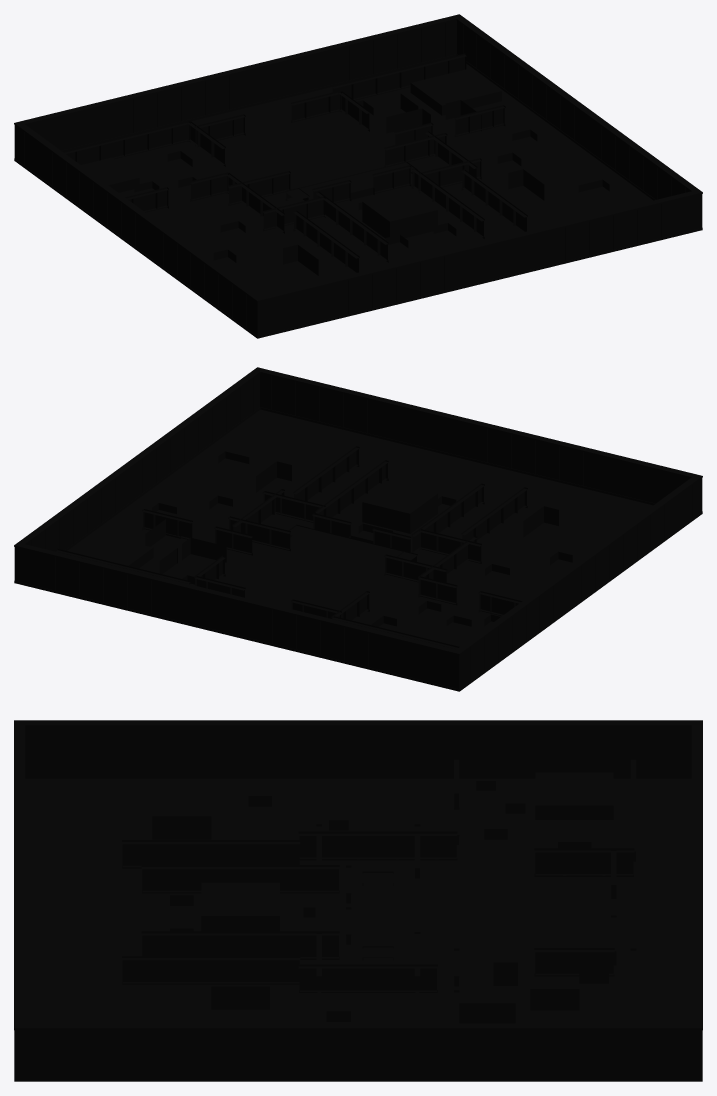
Rendered from saltline_shell.glb.
3 views of the same model, one above another, from view 1: azimuth 30°, elevation 25°; view 2: azimuth 150°, elevation 25°; view 3: azimuth 270°, elevation 25° (orthographic). The views are drawn at different scales.
Parts seen in each view (by area): view 1: saltline_shell; view 2: saltline_shell; view 3: saltline_shell.
Part boxes in pixels (<box>): saltline_shell: <box>14,14,702,338</box>; saltline_shell: <box>14,367,702,691</box>; saltline_shell: <box>14,720,702,1081</box>.
Bounding box in the file's own units: 74.16 × 6.12 × 70.16.
1 material, 1 textured.
